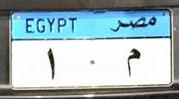1: (45, 46, 58, 81)
meem: (124, 43, 143, 80)
